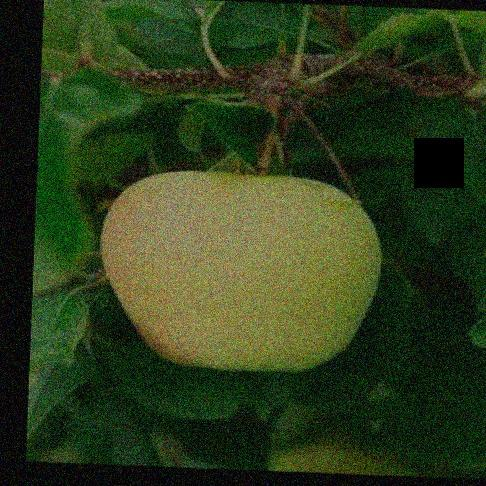green apple: (94, 169, 385, 372)
